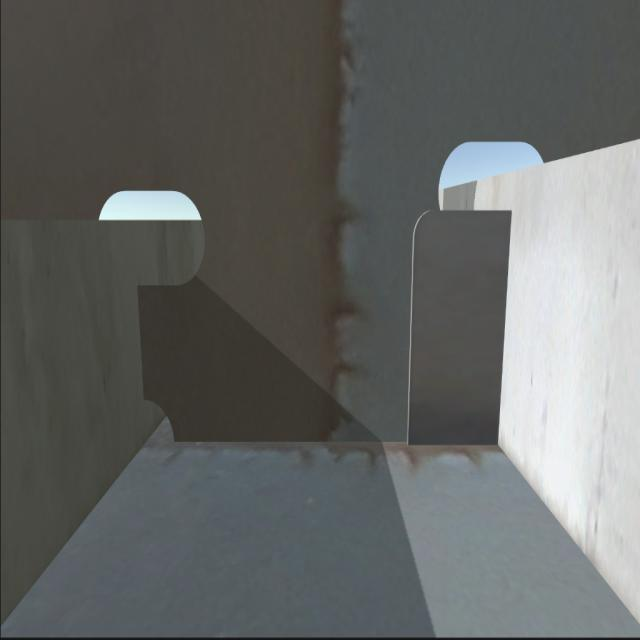fillet_hole: (143, 401, 176, 450)
fillet_yong_jeop_jang: (180, 439, 499, 452)
longi_yong_jeop_jang: (130, 283, 152, 402), (498, 209, 506, 448)
plate_CP05: (414, 195, 504, 438)
